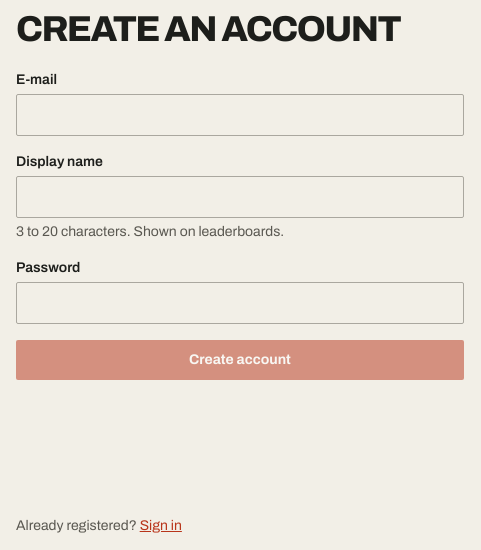
Test: register › shows field errors from the API under the right field
In the field labelled "E-mail": (240, 115) [16, 94, 464, 136], type "a@b.co"
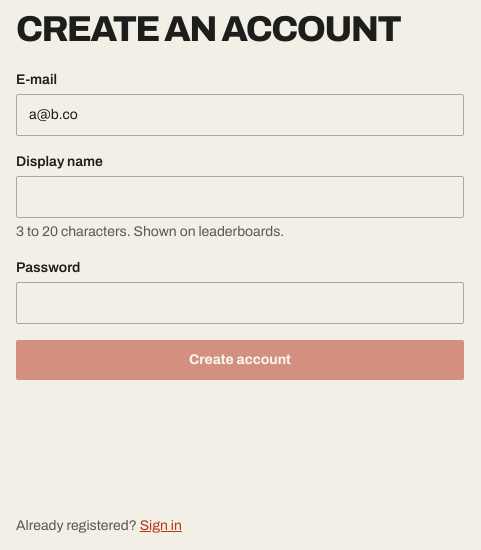
In the field labelled "Display name": (240, 197) [16, 176, 464, 218], type "Taken"
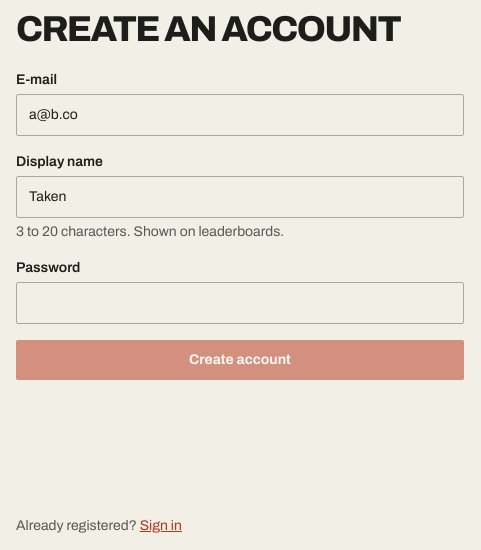
In the password field labelled "Password": (240, 303) [16, 282, 464, 324], type "pw-pw-pw-pw-1"
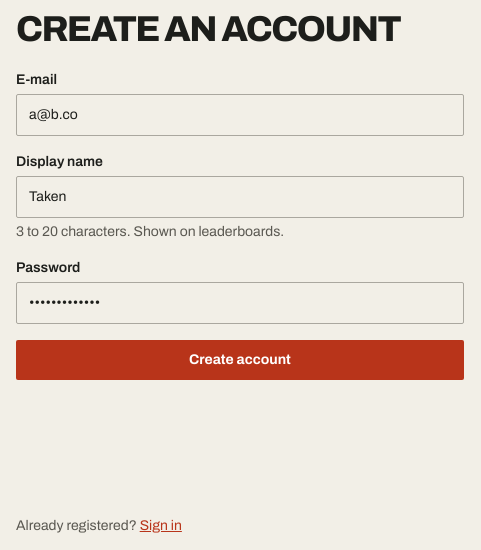
Click the button "Create account": (240, 360) [16, 340, 464, 380]
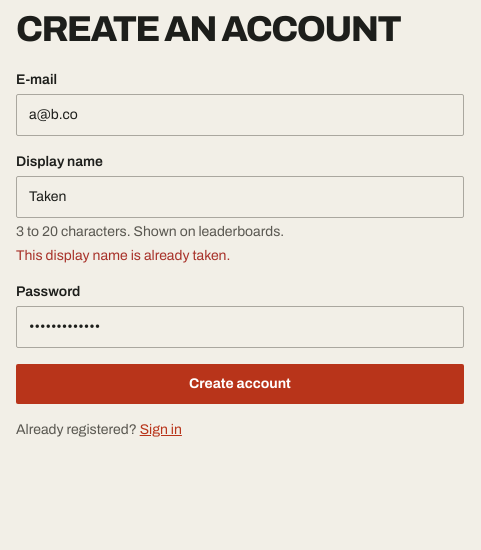
Expected: the text "This display name is already taken." is shown, [16, 248, 230, 263]
